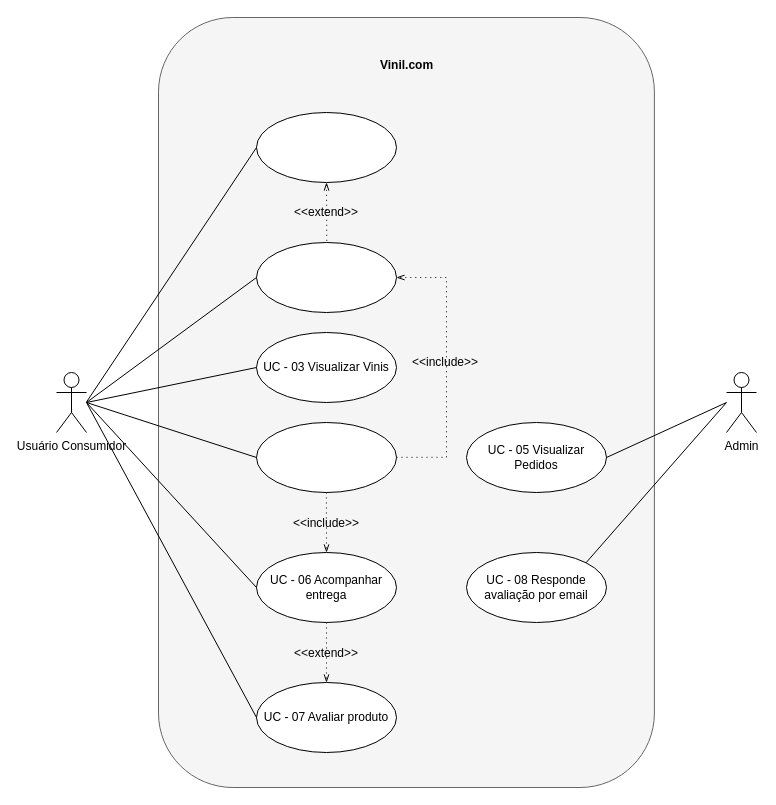
The diagram is 776 pixels wide and 805 high, and some of its shapes have lost their labels. Each missing label, with the centre of its shape:
"UC - 01 Realizar Cadastro" goes at point 326,147.
"UC - 02 Realizar Login" goes at point 326,277.
"UC - 04 Comprar um Vinil" goes at point 326,457.
